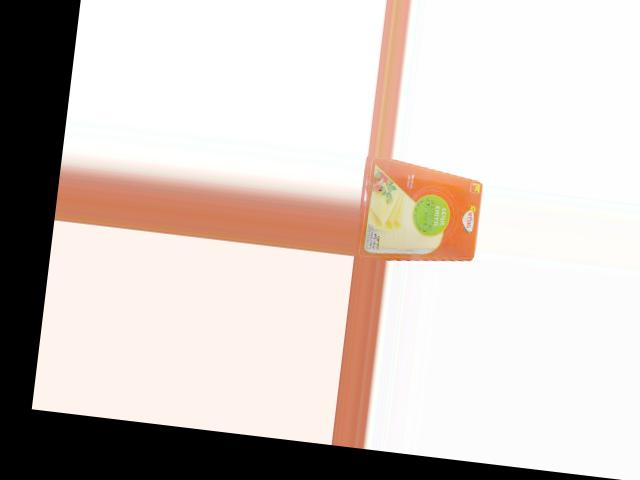cheese: (353, 154, 484, 268)
